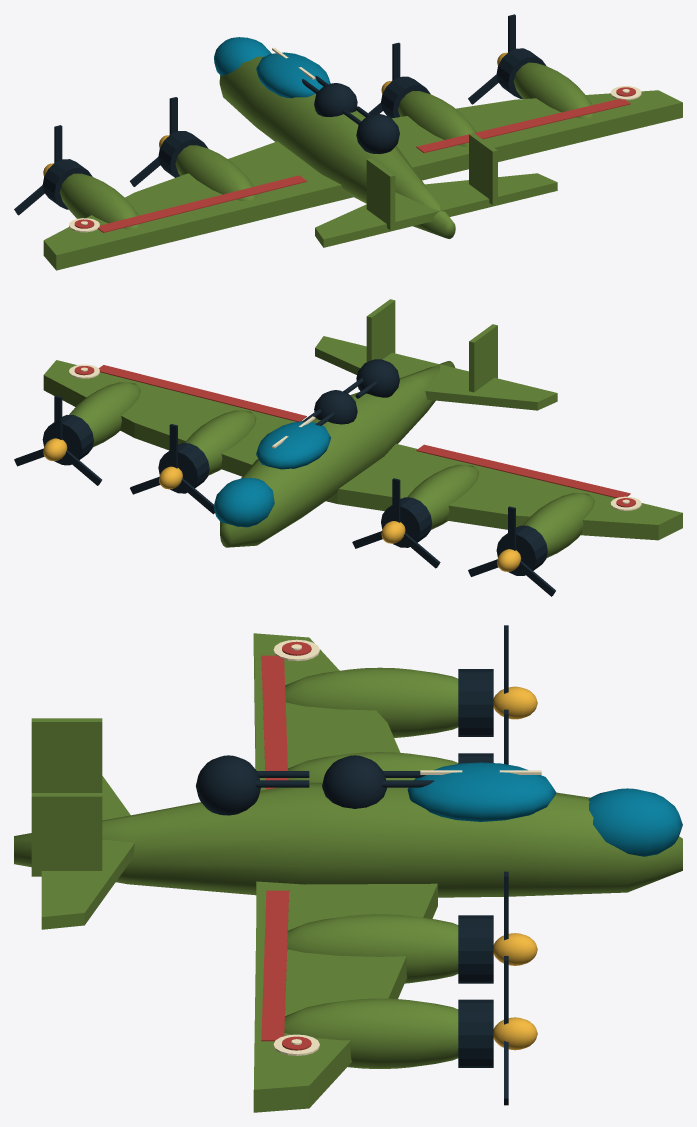
The model's file is boss.glb.
3 renders of one model, top to bottom at view 1: azimuth 30°, elevation 25°; view 2: azimuth 150°, elevation 25°; view 3: azimuth 270°, elevation 25°, orthographic. The views are drawn at different scales.
Parts seen in each view (by area): view 1: boss-airframe; view 2: boss-airframe; view 3: boss-airframe.
Part boxes in pixels (x1,y1,x2,y2): boss-airframe: (42,37,682,270); boss-airframe: (42,299,682,575); boss-airframe: (14,633,682,1112).
Size of the model in its own units: 4.28 by 0.6694 by 2.65.
